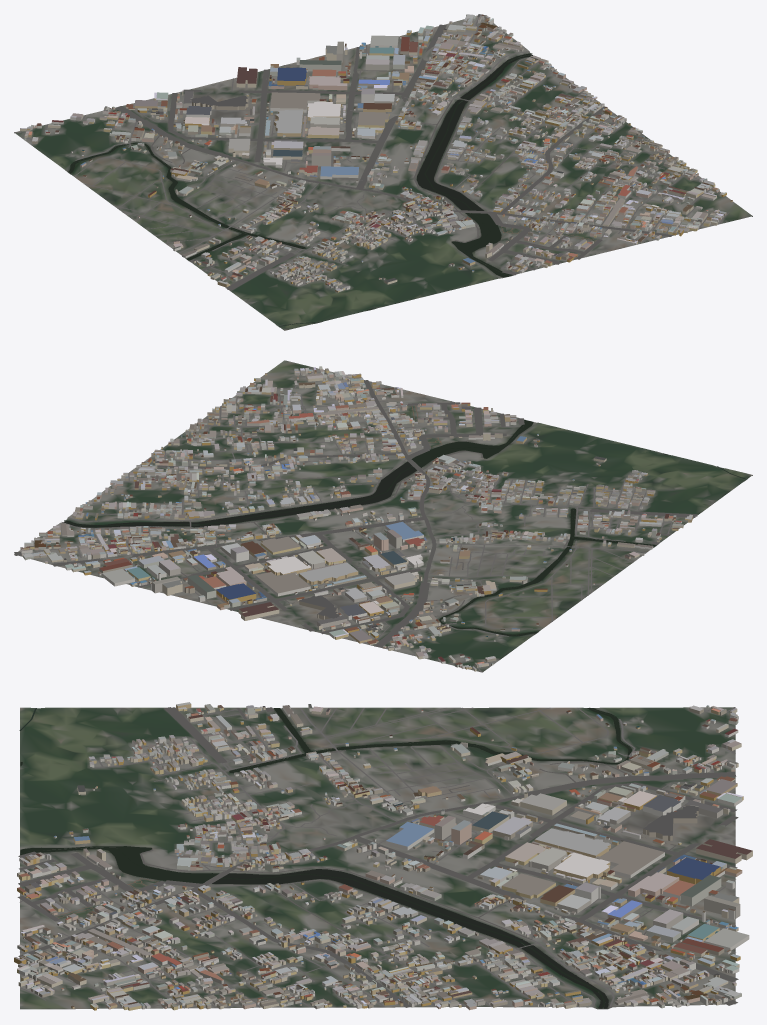
The picture shows the model from 3 angles, top to bottom: view 1: azimuth 30°, elevation 25°; view 2: azimuth 150°, elevation 25°; view 3: azimuth 270°, elevation 25°; orthographic projection. The views are drawn at different scales.
Parts seen in each view (by area): view 1: ground, buildings, roads, water; view 2: ground, buildings, roads, water; view 3: ground, buildings, roads, water.
Part boxes in pixels (box(x1,y1,x2,y2)): ground: box(14, 14, 752, 330); buildings: box(20, 14, 732, 292); roads: box(14, 14, 729, 290); water: box(68, 53, 532, 326); ground: box(14, 360, 752, 672); buildings: box(20, 366, 692, 671); roads: box(14, 368, 697, 672); water: box(64, 419, 746, 636); ground: box(20, 707, 735, 1009); buildings: box(14, 702, 752, 1010); roads: box(17, 707, 738, 1008); water: box(19, 707, 631, 1008).
Bounding box in the file's own units: 1419 × 35.93 × 1446.
